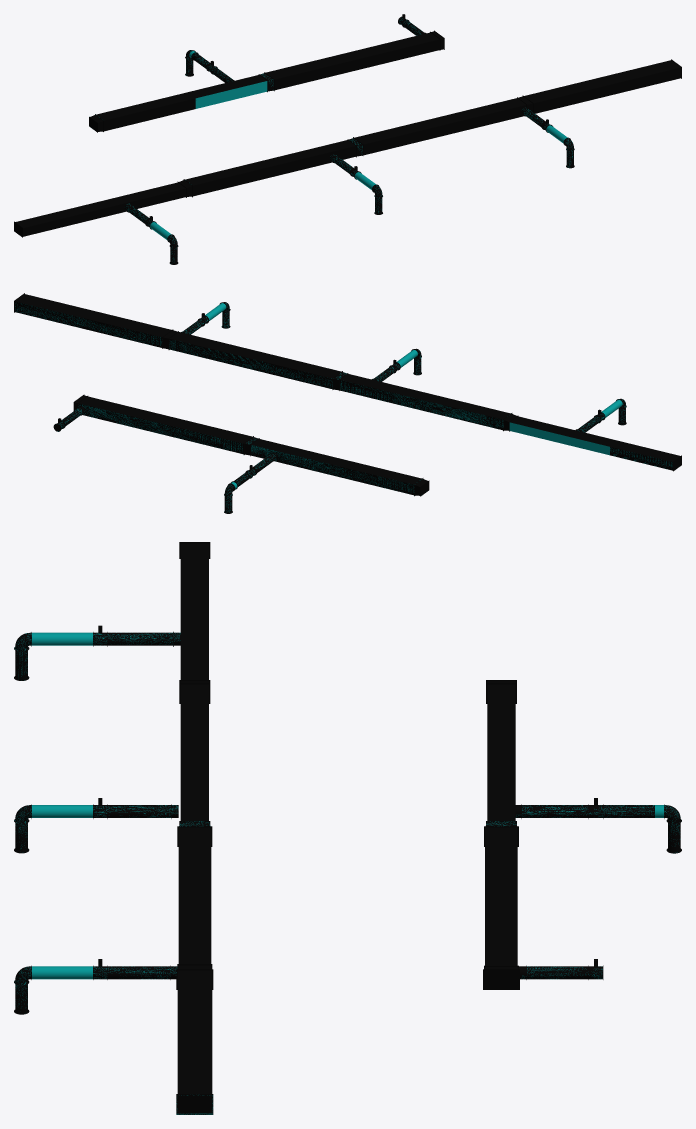
The model's file is GCC-AAV-13220-30.nwd(18).fbx.
The picture shows the model from 3 angles, top to bottom: view 1: azimuth 30°, elevation 25°; view 2: azimuth 150°, elevation 25°; view 3: azimuth 270°, elevation 25°; orthographic projection. The views are drawn at different scales.
Visible parts, largest first — view 1: STRT 11 of BRANCH /794-13220-ST-001-EF-002A-EA-0001-003, STRT 11 of BRANCH /794-13220-ST-001-EF-002A-EA-0001-002, STRT 10 of BRANCH /794-13220-ST-001-EF-002A-EA-0001-002, STRT 12 of BRANCH /794-13220-ST-001-EF-002A-EA-0001-002, STRT 13 of BRANCH /794-13220-ST-001-EF-002A-EA-0001-002, STRT 12 of BRANCH /794-13220-ST-001-EF-002A-EA-0001-003, Параллелепипед; view 2: STRT 11 of BRANCH /794-13220-ST-001-EF-002A-EA-0001-003 (×2), STRT 12 of BRANCH /794-13220-ST-001-EF-002A-EA-0001-002 (×2), STRT 11 of BRANCH /794-13220-ST-001-EF-002A-EA-0001-002 (×2), STRT 10 of BRANCH /794-13220-ST-001-EF-002A-EA-0001-002 (×2), STRT 12 of BRANCH /794-13220-ST-001-EF-002A-EA-0001-003 (×2), STRT 13 of BRANCH /794-13220-ST-001-EF-002A-EA-0001-002, Параллелепипед; view 3: STRT 10 of BRANCH /794-13220-ST-001-EF-002A-EA-0001-002, STRT 11 of BRANCH /794-13220-ST-001-EF-002A-EA-0001-002, STRT 11 of BRANCH /794-13220-ST-001-EF-002A-EA-0001-003, STRT 12 of BRANCH /794-13220-ST-001-EF-002A-EA-0001-002, STRT 13 of BRANCH /794-13220-ST-001-EF-002A-EA-0001-002, STRT 12 of BRANCH /794-13220-ST-001-EF-002A-EA-0001-003, Цилиндр (×2), STRT 1 of BRANCH /794-13220-ST-001-EF-002A-EA-0001-018, STRT 1 of BRANCH /794-13220-ST-001-EF-002A-EA-0001-016, TAPER 9 of BRANCH /794-13220-ST-001-EF-002A-EA-0001-003, STRT 1 of BRANCH /794-13220-ST-001-EF-002A-EA-0001-026, STRT 1 of BRANCH /794-13220-ST-001-EF-002A-EA-0001-027 (+1 smaller).
Boxes of the visible parts, x1,y1,x2,y2 form: STRT 11 of BRANCH /794-13220-ST-001-EF-002A-EA-0001-003: [265, 31, 440, 90]; STRT 11 of BRANCH /794-13220-ST-001-EF-002A-EA-0001-002: [354, 97, 526, 155]; STRT 10 of BRANCH /794-13220-ST-001-EF-002A-EA-0001-002: [524, 59, 681, 113]; STRT 12 of BRANCH /794-13220-ST-001-EF-002A-EA-0001-002: [185, 139, 356, 196]; STRT 13 of BRANCH /794-13220-ST-001-EF-002A-EA-0001-002: [14, 182, 186, 237]; STRT 12 of BRANCH /794-13220-ST-001-EF-002A-EA-0001-003: [96, 74, 267, 131]; Параллелепипед: [195, 81, 267, 108]; STRT 11 of BRANCH /794-13220-ST-001-EF-002A-EA-0001-003 (×2): [78, 396, 252, 454]; STRT 12 of BRANCH /794-13220-ST-001-EF-002A-EA-0001-002 (×2): [339, 373, 510, 430]; STRT 11 of BRANCH /794-13220-ST-001-EF-002A-EA-0001-002 (×2): [169, 331, 341, 389]; STRT 10 of BRANCH /794-13220-ST-001-EF-002A-EA-0001-002 (×2): [14, 293, 171, 347]; STRT 12 of BRANCH /794-13220-ST-001-EF-002A-EA-0001-003 (×2): [250, 438, 421, 495]; STRT 13 of BRANCH /794-13220-ST-001-EF-002A-EA-0001-002: [509, 415, 681, 471]; Параллелепипед: [509, 422, 609, 455]; STRT 10 of BRANCH /794-13220-ST-001-EF-002A-EA-0001-002: [176, 969, 213, 1114]; STRT 11 of BRANCH /794-13220-ST-001-EF-002A-EA-0001-002: [177, 826, 212, 963]; STRT 11 of BRANCH /794-13220-ST-001-EF-002A-EA-0001-003: [484, 826, 518, 965]; STRT 12 of BRANCH /794-13220-ST-001-EF-002A-EA-0001-002: [179, 683, 210, 820]; STRT 13 of BRANCH /794-13220-ST-001-EF-002A-EA-0001-002: [179, 542, 210, 679]; STRT 12 of BRANCH /794-13220-ST-001-EF-002A-EA-0001-003: [486, 683, 516, 820]; Цилиндр (×2): [32, 632, 92, 979]; STRT 1 of BRANCH /794-13220-ST-001-EF-002A-EA-0001-018: [107, 632, 173, 646]; STRT 1 of BRANCH /794-13220-ST-001-EF-002A-EA-0001-016: [107, 965, 170, 979]; TAPER 9 of BRANCH /794-13220-ST-001-EF-002A-EA-0001-003: [483, 966, 519, 989]; STRT 1 of BRANCH /794-13220-ST-001-EF-002A-EA-0001-026: [522, 804, 588, 818]; STRT 1 of BRANCH /794-13220-ST-001-EF-002A-EA-0001-027: [527, 965, 588, 979].
Size of the model in its own units: 1266 by 55.01 by 645.
